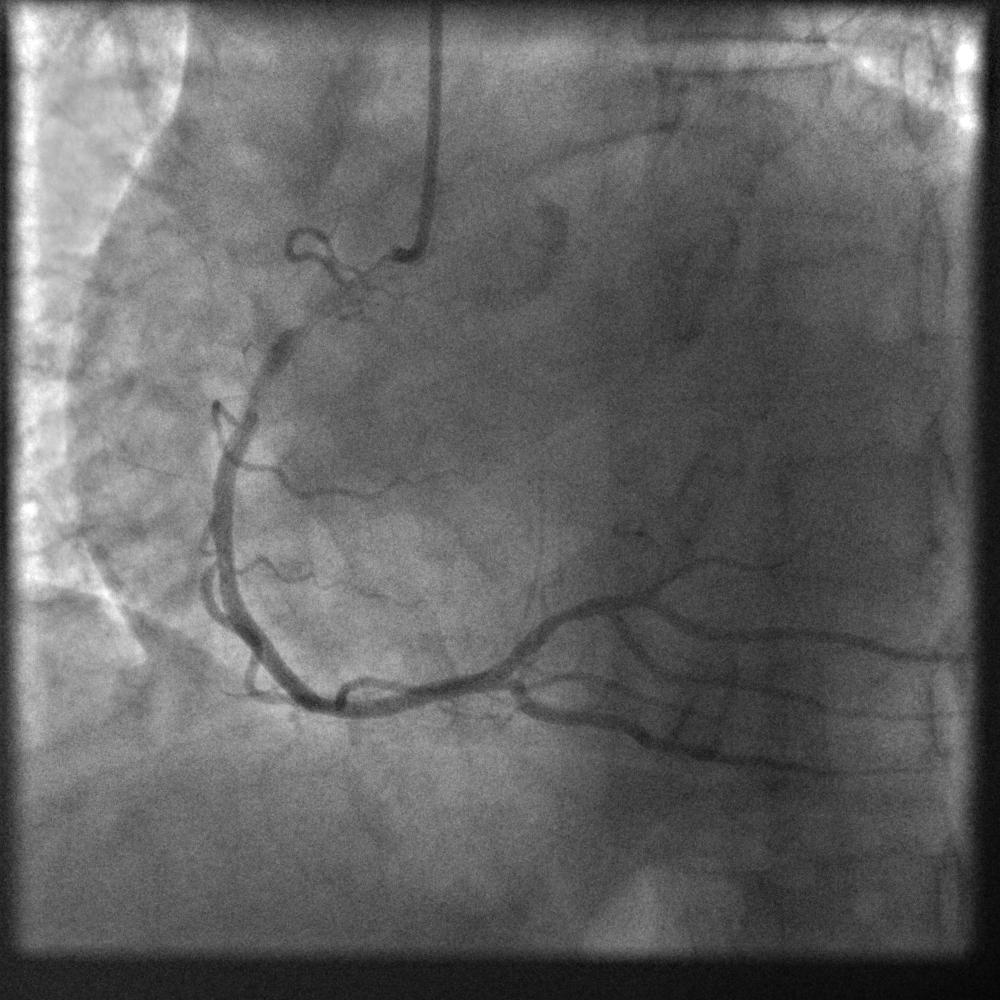Stenosis: (283, 294, 326, 347)
